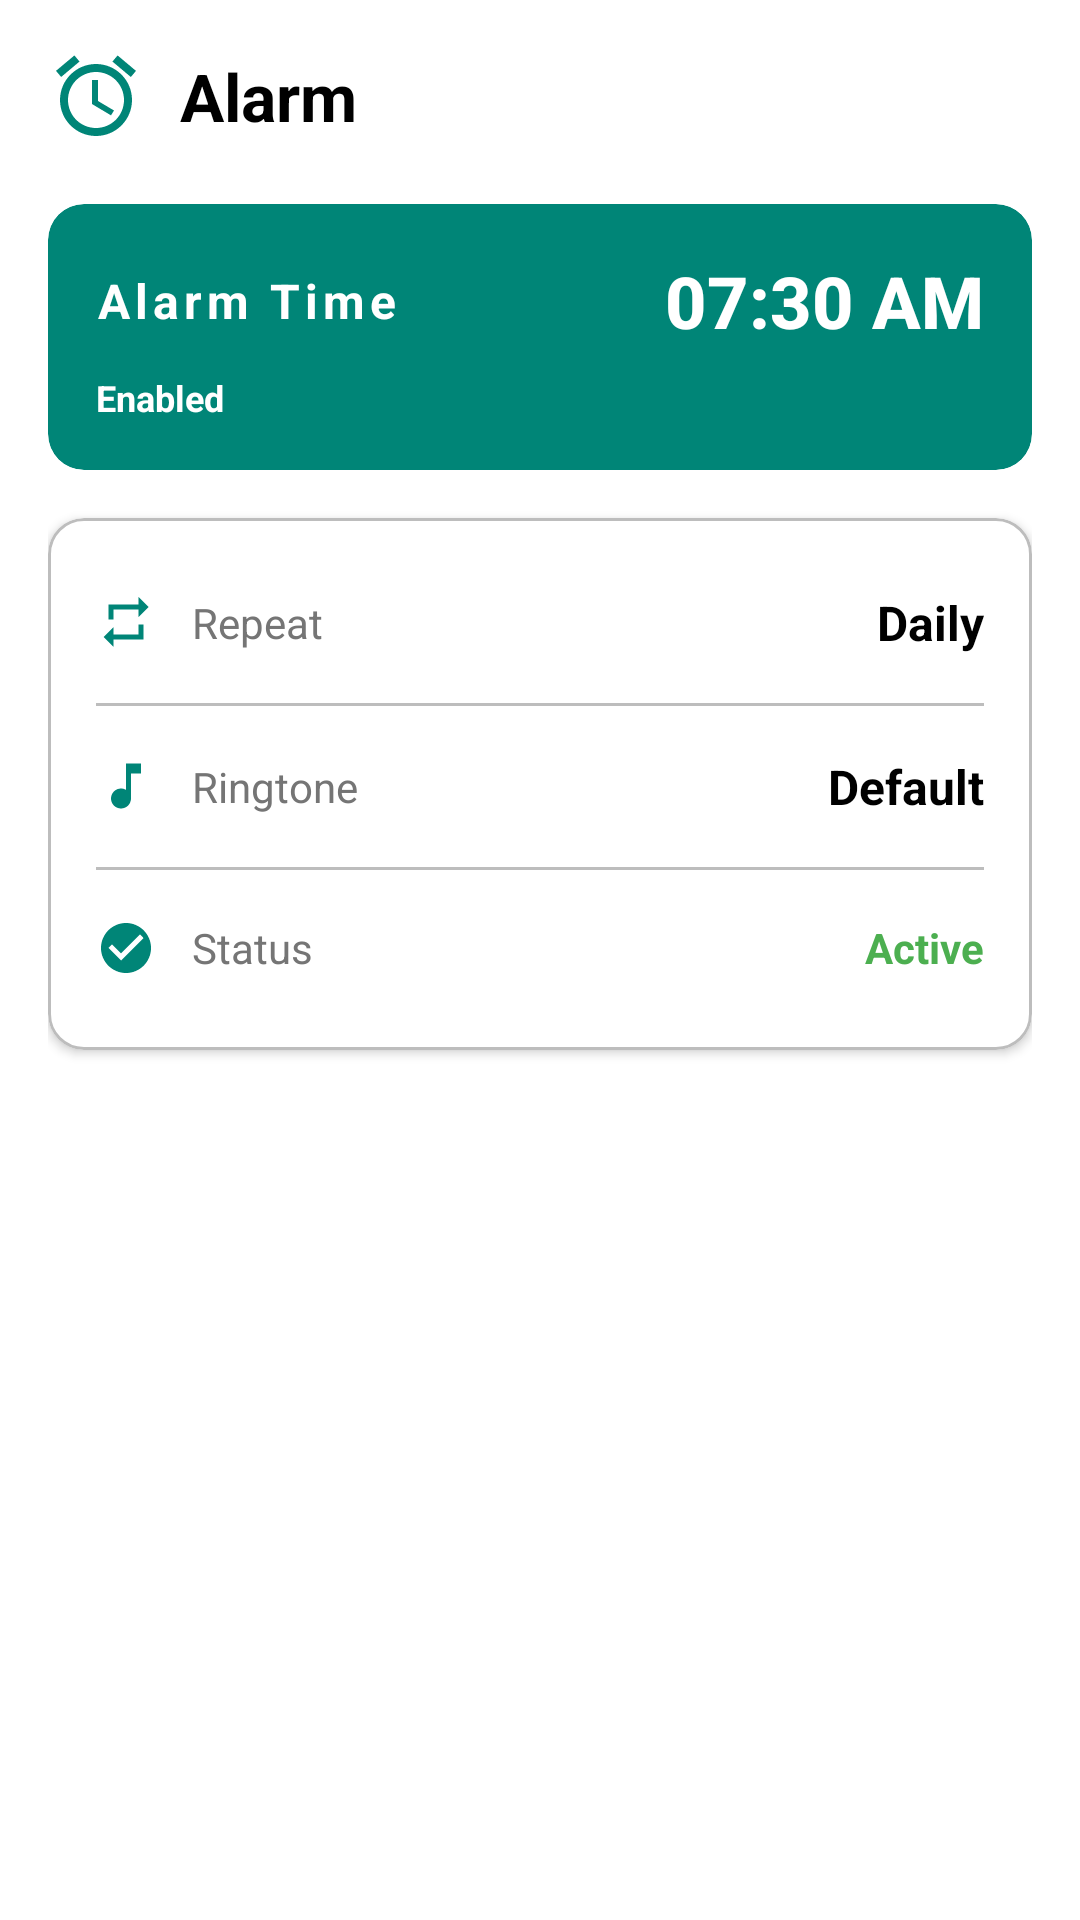

Locate icon controls on the screen. Image size 1080×1920, boxes as (x1, y1, x2, y2).
alarm music: (111, 763, 141, 809)
check circle: (101, 923, 151, 973)
